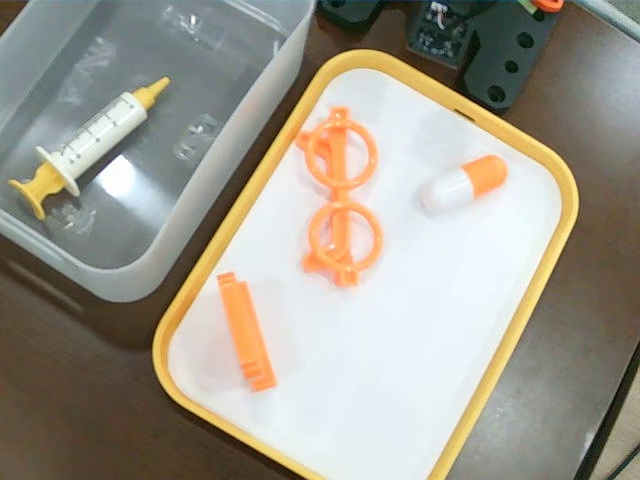pill: (417, 155, 509, 215)
syringe: (8, 77, 173, 223)
